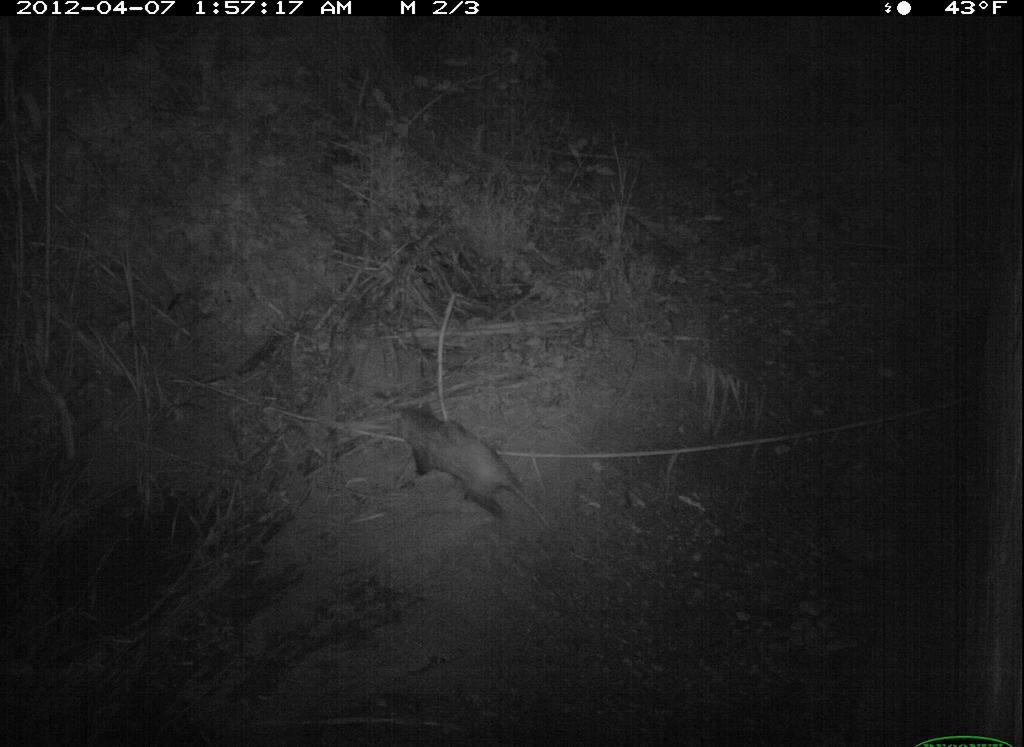opossum: (376, 386, 573, 546)
